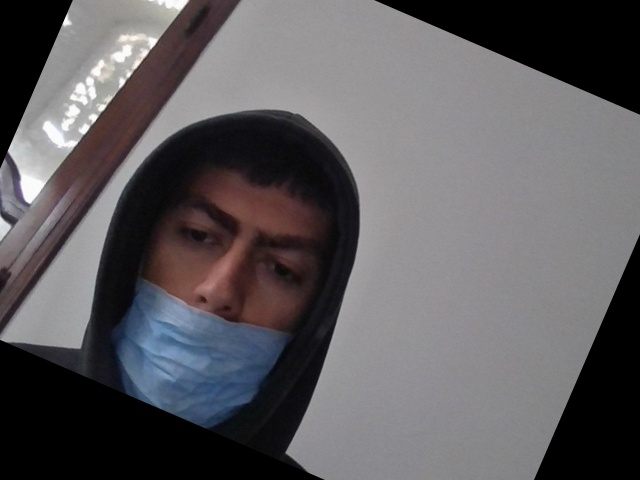mask_weared_incorrect: (118, 159, 331, 428)
